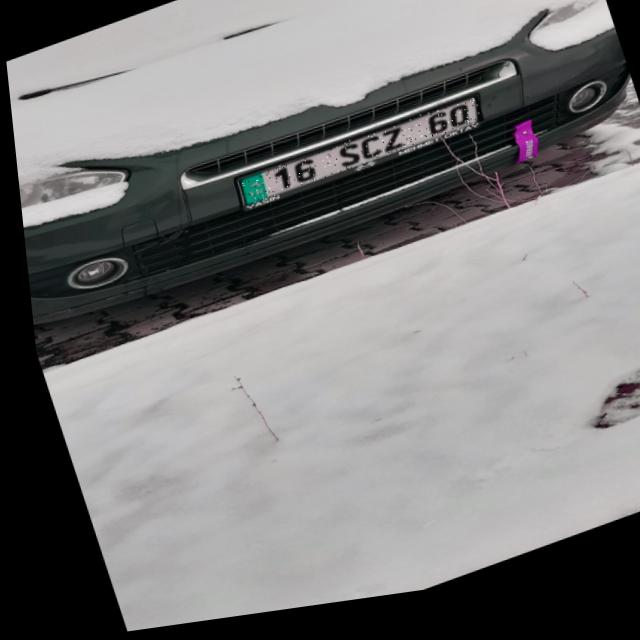license_plate: (229, 107, 484, 213)
